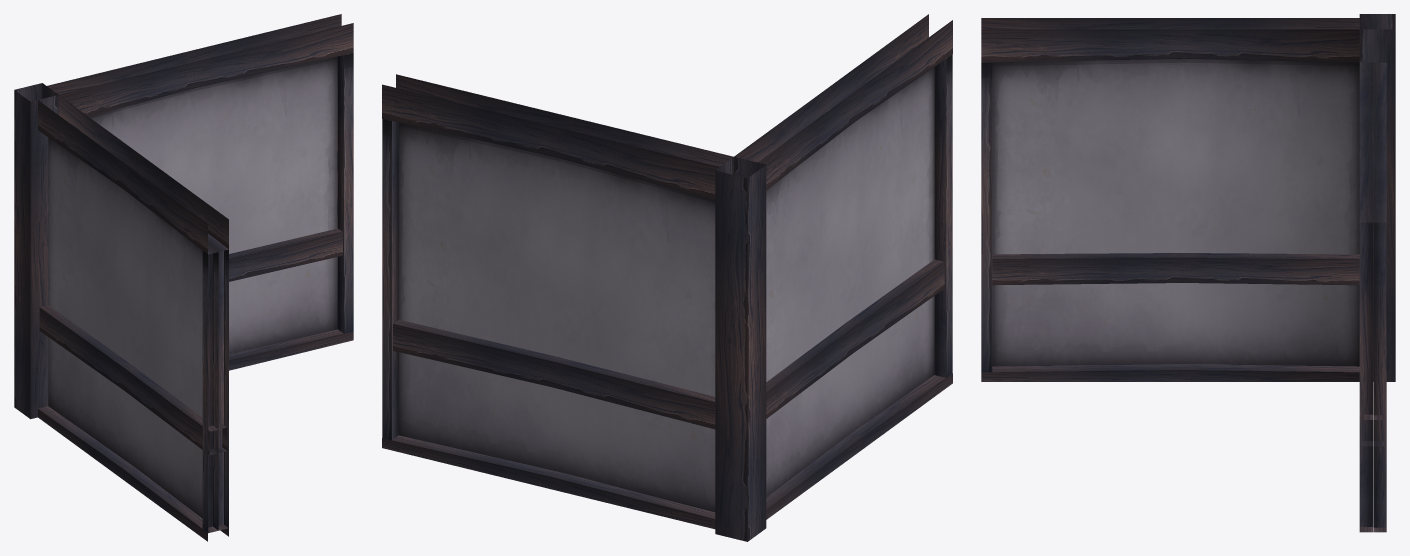
Rendered from WallCorner_2sided_detailed_2ndFloor.fbx.
3 renders of one model, left to right at view 1: azimuth 30°, elevation 25°; view 2: azimuth 150°, elevation 25°; view 3: azimuth 270°, elevation 25°, orthographic. The views are drawn at different scales.
Visible parts, largest first — view 1: WallCorner_2sided_detailed_2ndFloor; view 2: WallCorner_2sided_detailed_2ndFloor; view 3: WallCorner_2sided_detailed_2ndFloor.
Boxes of the visible parts, x1,y1,x2,y2 form: WallCorner_2sided_detailed_2ndFloor: (14,14,353,541); WallCorner_2sided_detailed_2ndFloor: (382,14,952,541); WallCorner_2sided_detailed_2ndFloor: (981,14,1395,532).
Size of the model in its own units: 0.6867 by 0.6444 by 0.6863.
